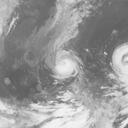cyclone: (52, 52, 80, 79), (112, 43, 127, 90)
